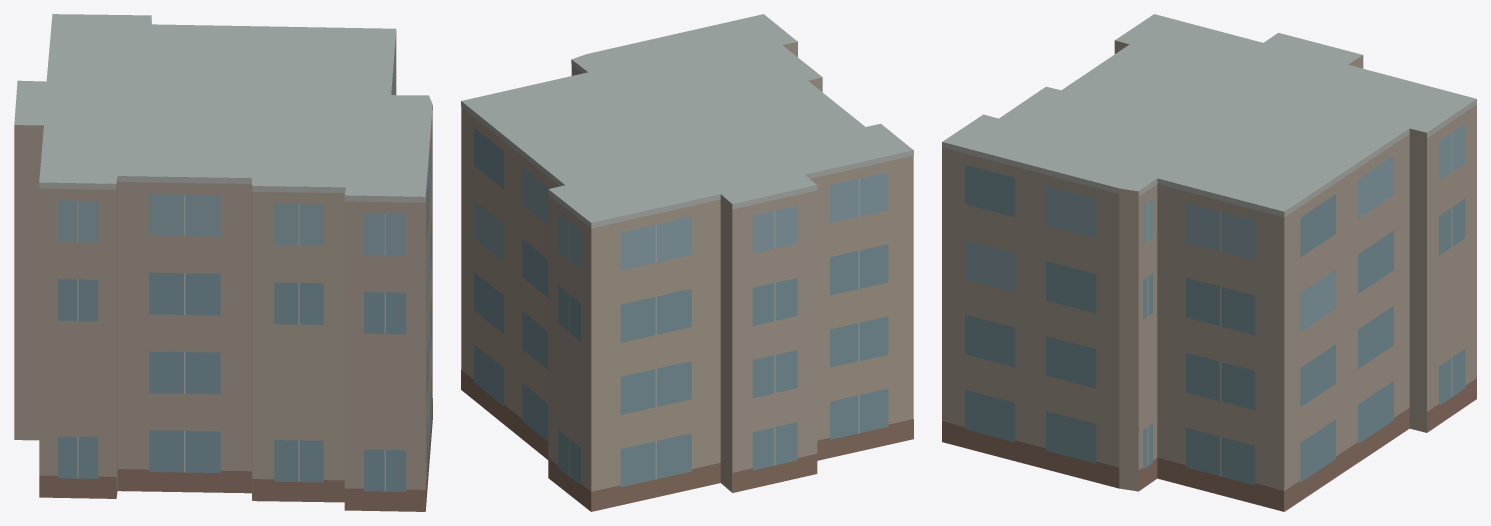
The model's file is survey-upis-32914892.glb.
The picture shows the model from 3 angles, left to right: view 1: azimuth 30°, elevation 25°; view 2: azimuth 150°, elevation 25°; view 3: azimuth 270°, elevation 25°; orthographic projection. The views are drawn at different scales.
Parts seen in each view (by area): view 1: survey-upis-32914892.tmp; view 2: survey-upis-32914892.tmp; view 3: survey-upis-32914892.tmp.
Part boxes in pixels (x1,y1,x2,y2): survey-upis-32914892.tmp: [14, 14, 432, 511]; survey-upis-32914892.tmp: [461, 14, 913, 511]; survey-upis-32914892.tmp: [942, 14, 1476, 511].
Bounding box in the file's own units: 18.38 × 13 × 21.
